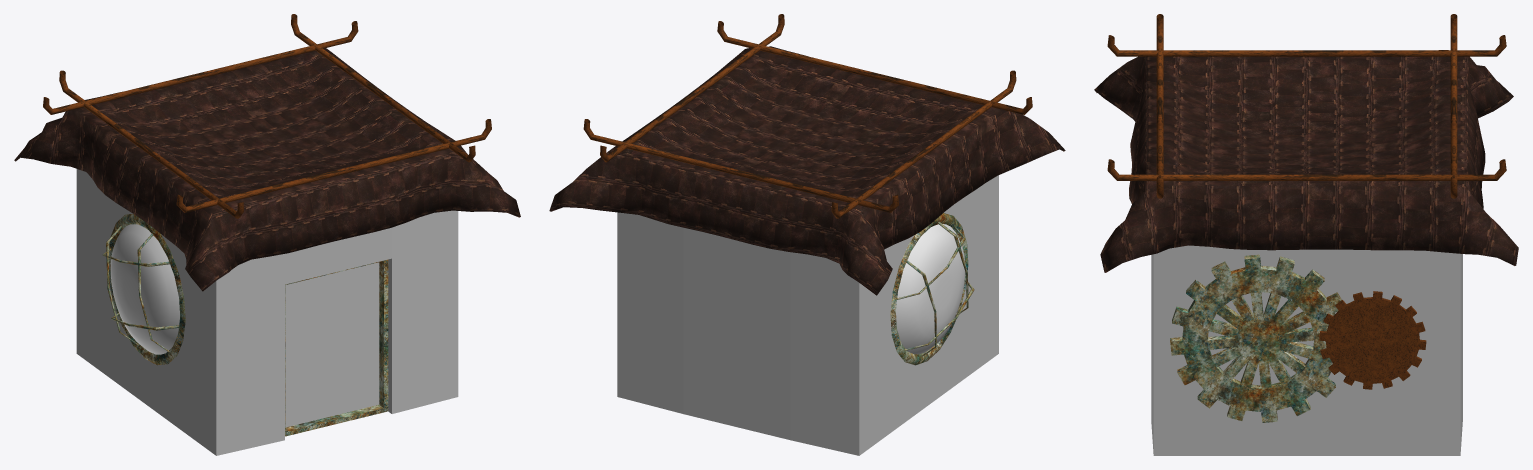
Rendered from Short House.fbx.
3 renders of one model, left to right at view 1: azimuth 30°, elevation 25°; view 2: azimuth 150°, elevation 25°; view 3: azimuth 270°, elevation 25°, orthographic. The views are drawn at different scales.
Parts seen in each view (by area): view 1: Cloth; view 2: Cloth; view 3: Cloth.
Boxes of the visible parts, x1,y1,x2,y2 form: Cloth: [14, 14, 520, 455]; Cloth: [549, 14, 1065, 455]; Cloth: [1094, 14, 1518, 455].
Bounding box in the file's own units: 285 × 219 × 288.
